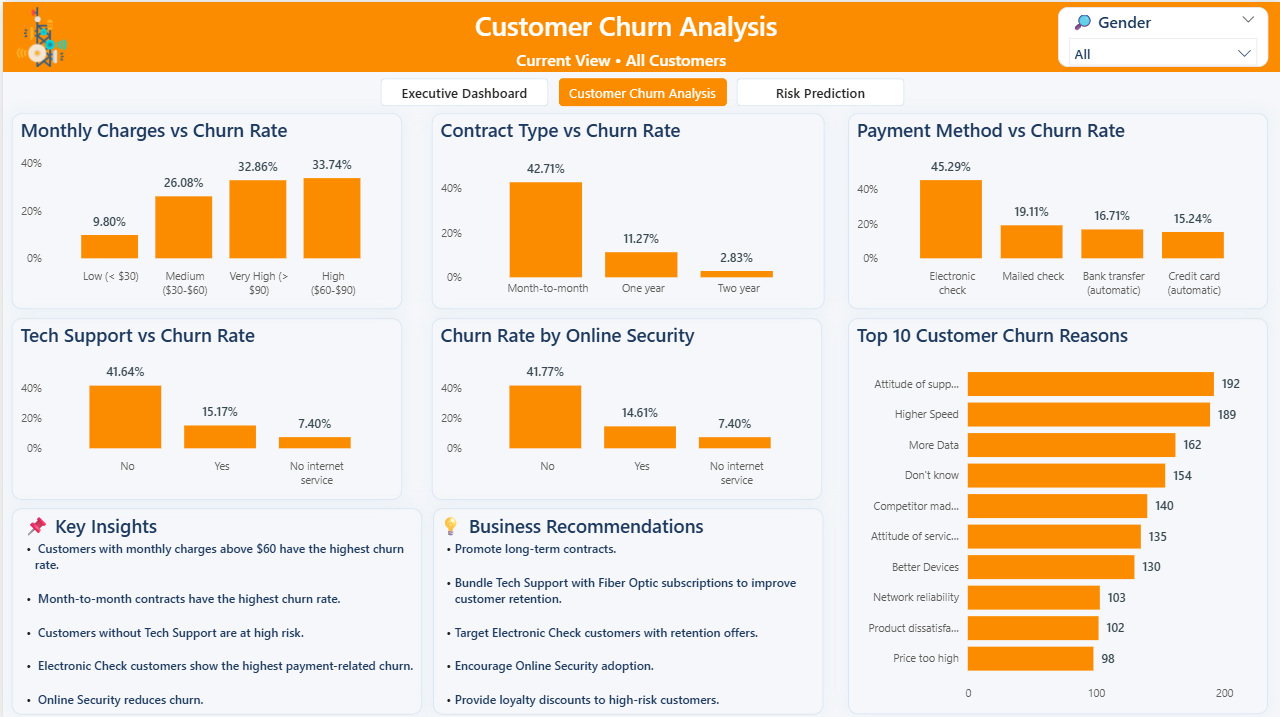

This screenshot's page, from the dashboard's own definition file:
{"tool":"powerbi","page":{"name":"Customer Churn Analysis","canvas":[1280,720],"ordinal":1},"visuals":[{"type":"shape","box":[0,0,1280,70],"z":0},{"type":"textbox","box":[353.8,0,538.8,53.8],"z":1000},{"type":"image","box":[8.8,5,60,60],"z":2000},{"type":"cardVisual","fields":{"Data":["customer_churn_with_risk.Selected Filters"]},"box":[501.2,32.5,277.5,46.2],"z":3000},{"type":"clusteredColumnChart","title":"Monthly Charges vs Churn Rate","fields":{"Category":["customer_churn_with_risk.Monthly Charge Category"],"Y":["customer_churn_with_risk.Churn Rate %"]},"box":[8.8,111.2,390,196.2],"z":4000},{"type":"clusteredColumnChart","title":"Contract Type vs Churn Rate","fields":{"Category":["customer_churn_with_risk.Contract"],"Y":["customer_churn_with_risk.Churn Rate %"]},"box":[428.8,111.2,392.5,196.2],"z":5000},{"type":"clusteredColumnChart","title":"Payment Method vs Churn Rate","fields":{"Category":["customer_churn_with_risk.Payment_Method"],"Y":["customer_churn_with_risk.Churn Rate %"]},"box":[845,111.2,420,196.2],"z":6000},{"type":"clusteredColumnChart","title":"Tech Support vs Churn Rate","fields":{"Category":["customer_churn_with_risk.Tech_Support"],"Y":["customer_churn_with_risk.Churn Rate %"]},"box":[8.8,316.2,390,181.2],"z":7000},{"type":"clusteredColumnChart","title":"Churn Rate by Online Security","fields":{"Category":["customer_churn_with_risk.Online_Security"],"Y":["customer_churn_with_risk.Churn Rate %"]},"box":[428.8,316.2,390,181.2],"z":8000},{"type":"barChart","title":"Top 10 Customer Churn Reasons","fields":{"Category":["customer_churn_with_risk.Short Churn Reason"],"Y":["CountNonNull(customer_churn_with_risk.CustomerID)"]},"box":[845,316.2,420,396.2],"z":9000},{"type":"shape","box":[8.8,506.2,410,206.2],"z":10000},{"type":"shape","box":[430,506.2,390,206.2],"z":11000},{"type":"textbox","box":[8.8,506.2,157.5,42.5],"z":12000},{"type":"textbox","box":[8.8,533.8,420,178.8],"z":13000},{"type":"textbox","box":[430,506.2,280,36.2],"z":14000},{"type":"textbox","box":[428.8,533.8,401.2,178.8],"z":15000},{"type":"slicer","fields":{"Values":["customer_churn_with_risk.Gender"]},"box":[1055,5,210,60],"z":15001},{"type":"pageNavigator","box":[377.5,76,525,28.8],"z":15002}]}

Visuals, with their boxes in screenshot pixels (x1, y1, x2, y2), scaled from the page's 1280x720 canvas onto the 1280x717 screenshot:
shape: rect(0, 0, 1279, 70)
textbox: rect(354, 0, 893, 54)
image: rect(9, 5, 69, 65)
cardVisual - customer_churn_with_risk.Selected Filters: rect(501, 32, 779, 78)
"Monthly Charges vs Churn Rate" clusteredColumnChart: rect(9, 111, 399, 306)
"Contract Type vs Churn Rate" clusteredColumnChart: rect(429, 111, 821, 306)
"Payment Method vs Churn Rate" clusteredColumnChart: rect(845, 111, 1265, 306)
"Tech Support vs Churn Rate" clusteredColumnChart: rect(9, 315, 399, 495)
"Churn Rate by Online Security" clusteredColumnChart: rect(429, 315, 819, 495)
"Top 10 Customer Churn Reasons" barChart: rect(845, 315, 1265, 709)
shape: rect(9, 504, 419, 709)
shape: rect(430, 504, 820, 709)
textbox: rect(9, 504, 166, 546)
textbox: rect(9, 532, 429, 710)
textbox: rect(430, 504, 710, 540)
textbox: rect(429, 532, 830, 710)
slicer - customer_churn_with_risk.Gender: rect(1055, 5, 1265, 65)
pageNavigator: rect(378, 76, 902, 104)
